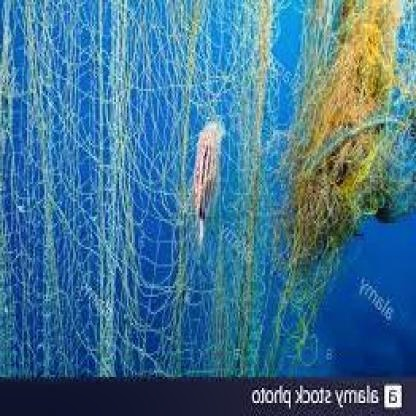net: (2, 2, 410, 379)
